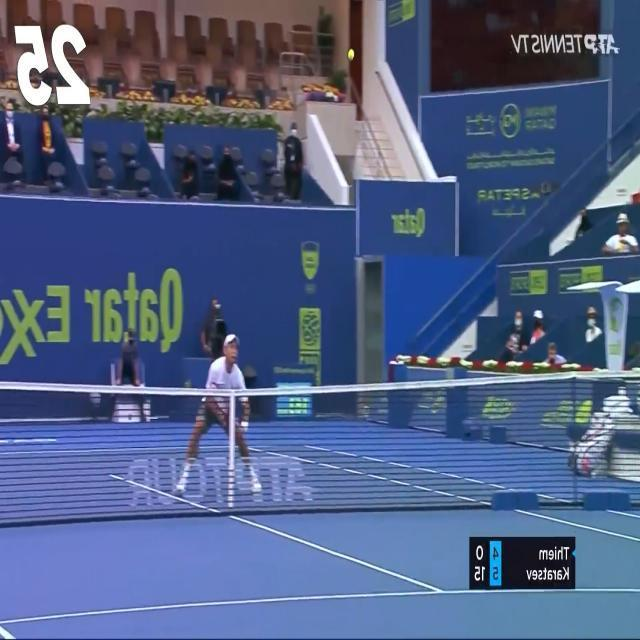net: (0, 369, 639, 523)
player: (173, 332, 262, 498)
